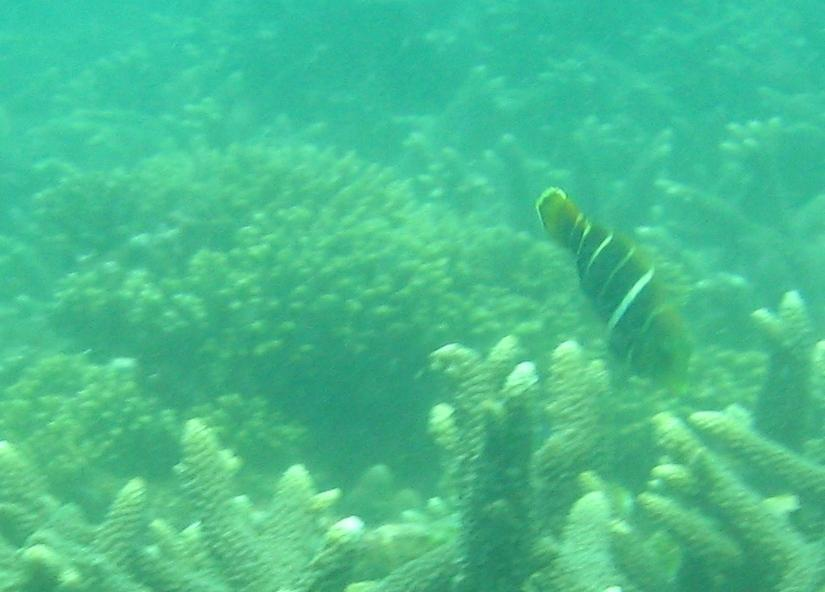Fish: (526, 174, 698, 404)
